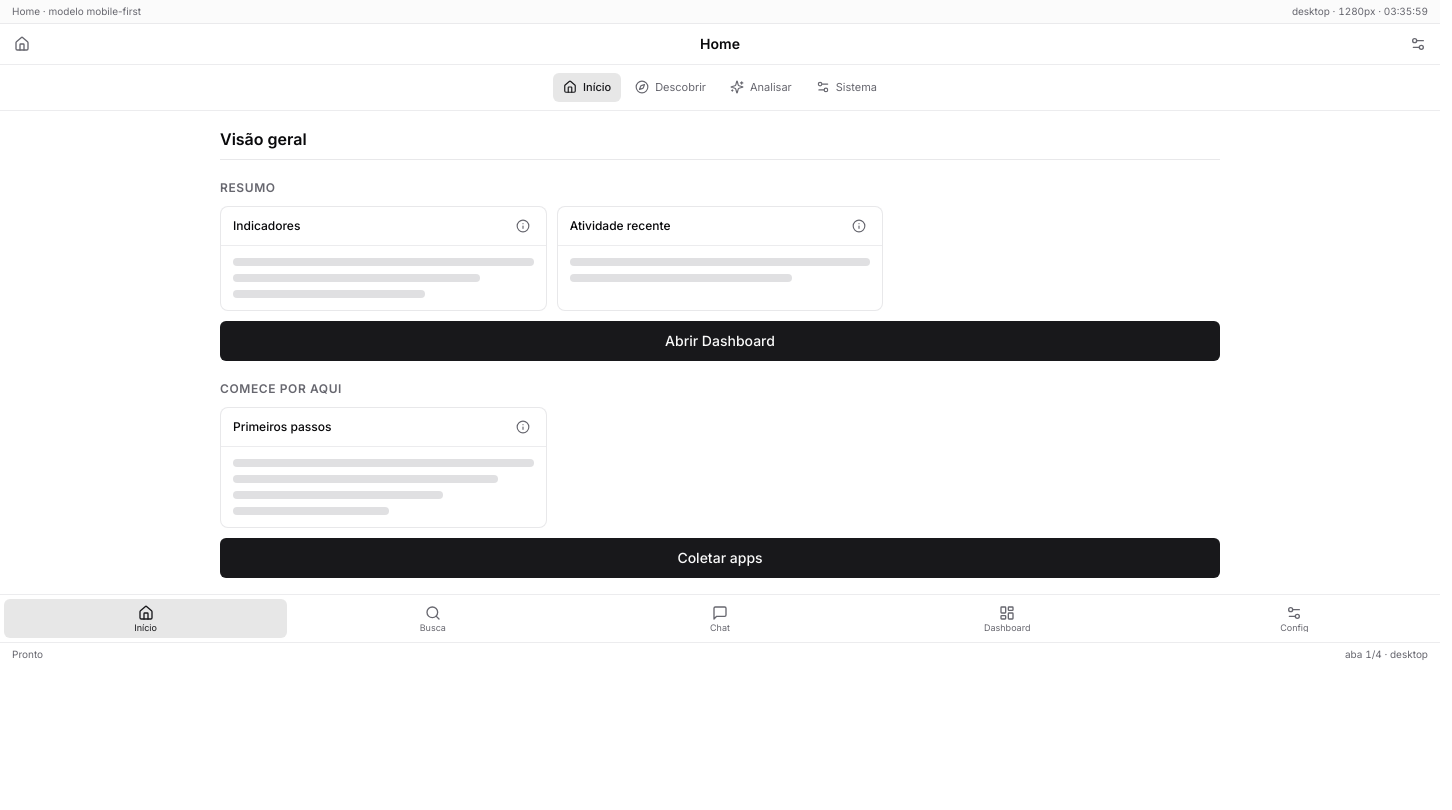
Test: HomeShell (render) › botão de info do componente revela a descrição (aria-expanded)
The width and height of the screenshot is (1452, 810).
What coordinates should you click on to do the following:
click the button named "Sobre o componente Indicadores"
I would click on:
 (523, 226)
Its box is [512,214,534,236].
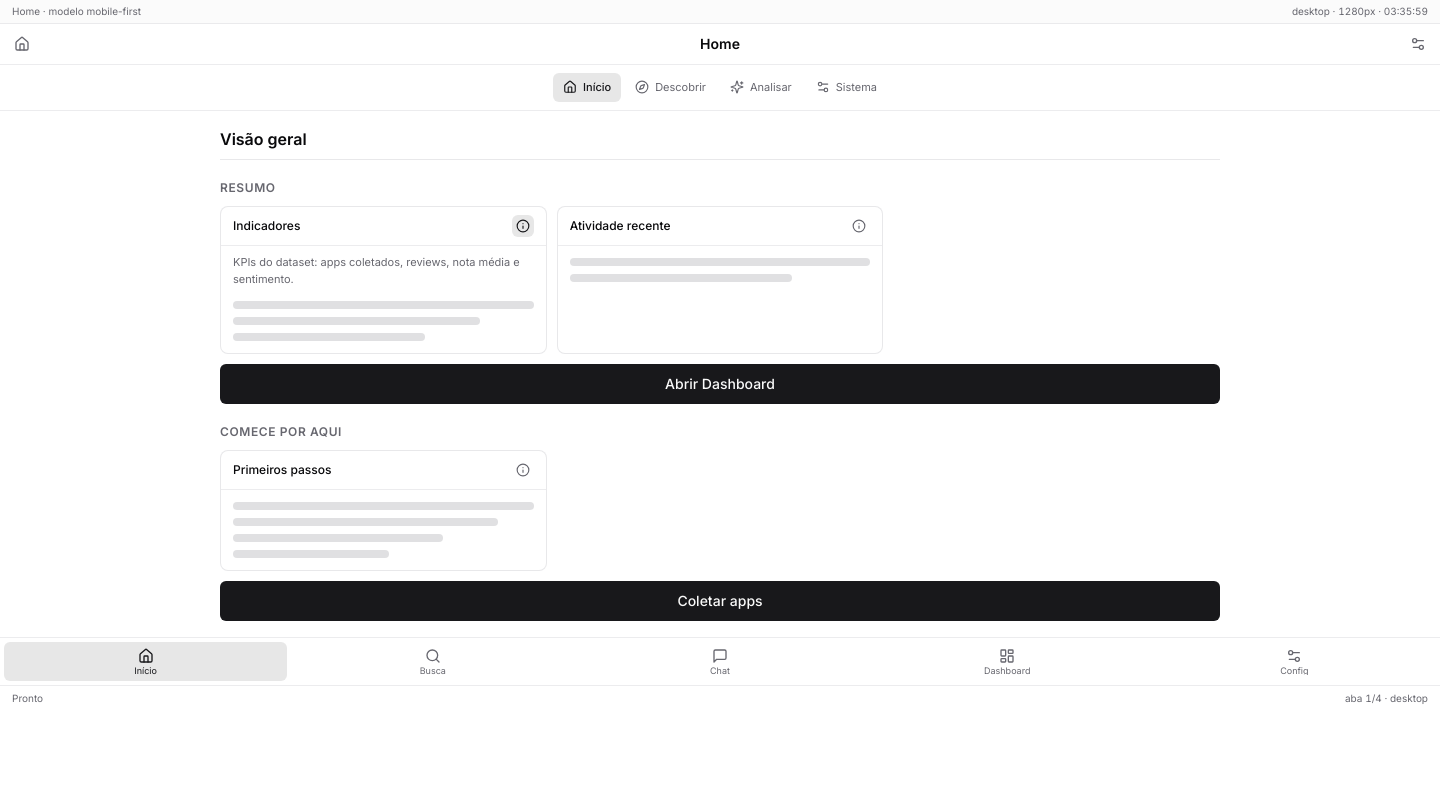
expect the text "KPIs do dataset: apps coletados, reviews, nota média e sentimento." is shown: met, box [221,246,546,289]
